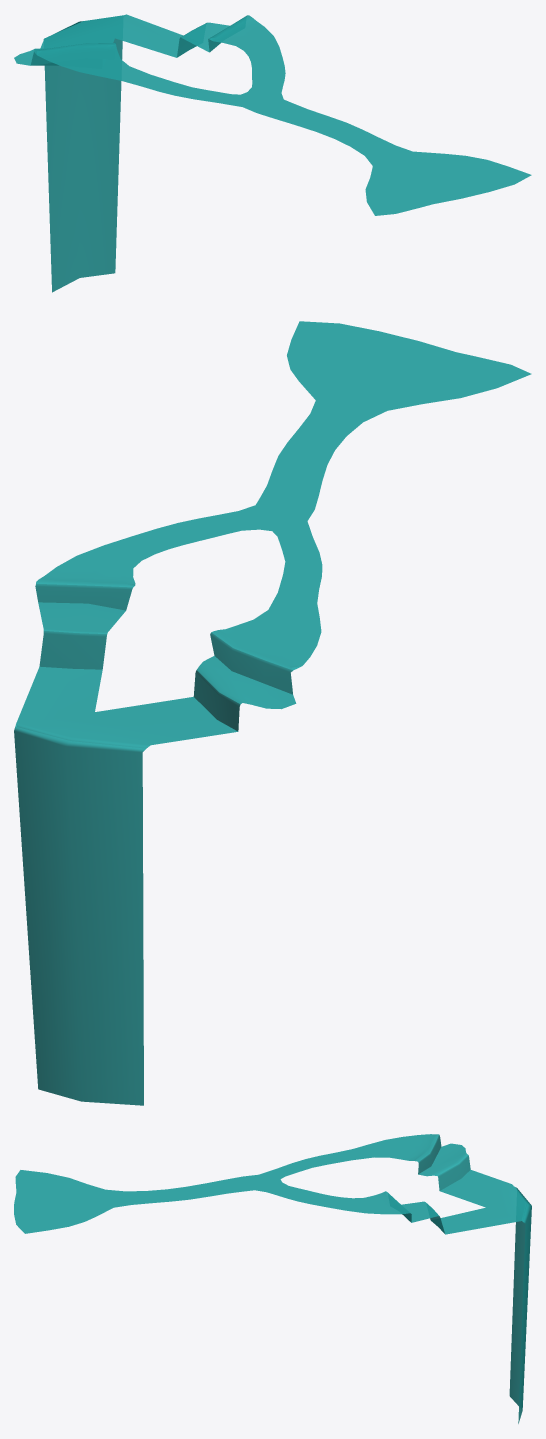
The model's file is MSH_env_riverv3.fbx.
3 renders of one model, top to bottom at view 1: azimuth 30°, elevation 25°; view 2: azimuth 150°, elevation 25°; view 3: azimuth 270°, elevation 25°, orthographic. The views are drawn at different scales.
Parts seen in each view (by area): view 1: group2_MSH_env_riverv5; view 2: group2_MSH_env_riverv5; view 3: group2_MSH_env_riverv5.
Boxes of the visible parts, box(x1,y1,x2,y2) form: group2_MSH_env_riverv5: box(14, 14, 531, 292); group2_MSH_env_riverv5: box(14, 321, 531, 1105); group2_MSH_env_riverv5: box(14, 1134, 531, 1423).
Size of the model in its own units: 102 by 110 by 217.
